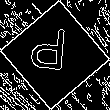P_S: (34, 28, 76, 82)
